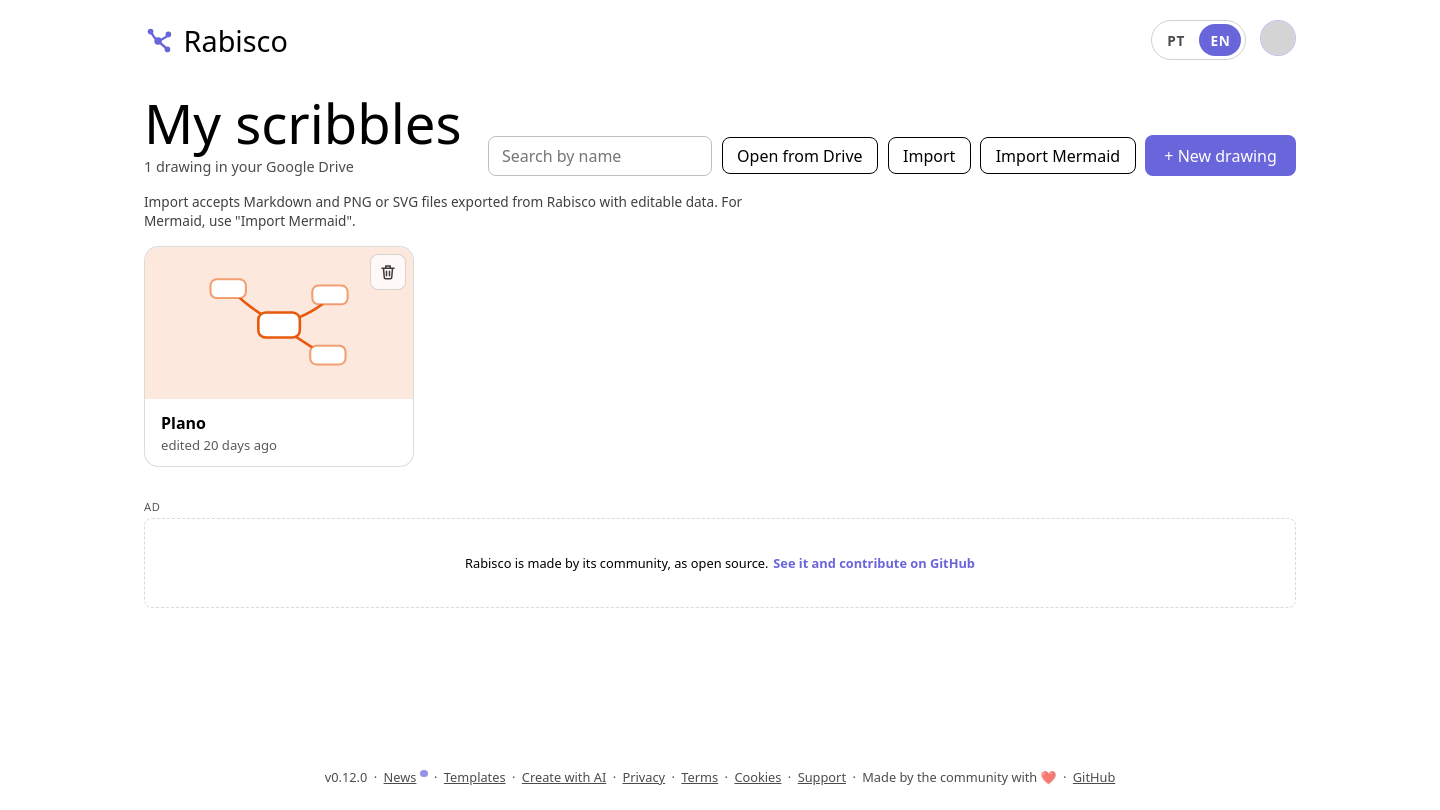
Test: deleting a drawing › says it in English too
Click the button named "Delete “Plano”" at (388, 272), box x1=370 y1=254 x2=406 y2=290
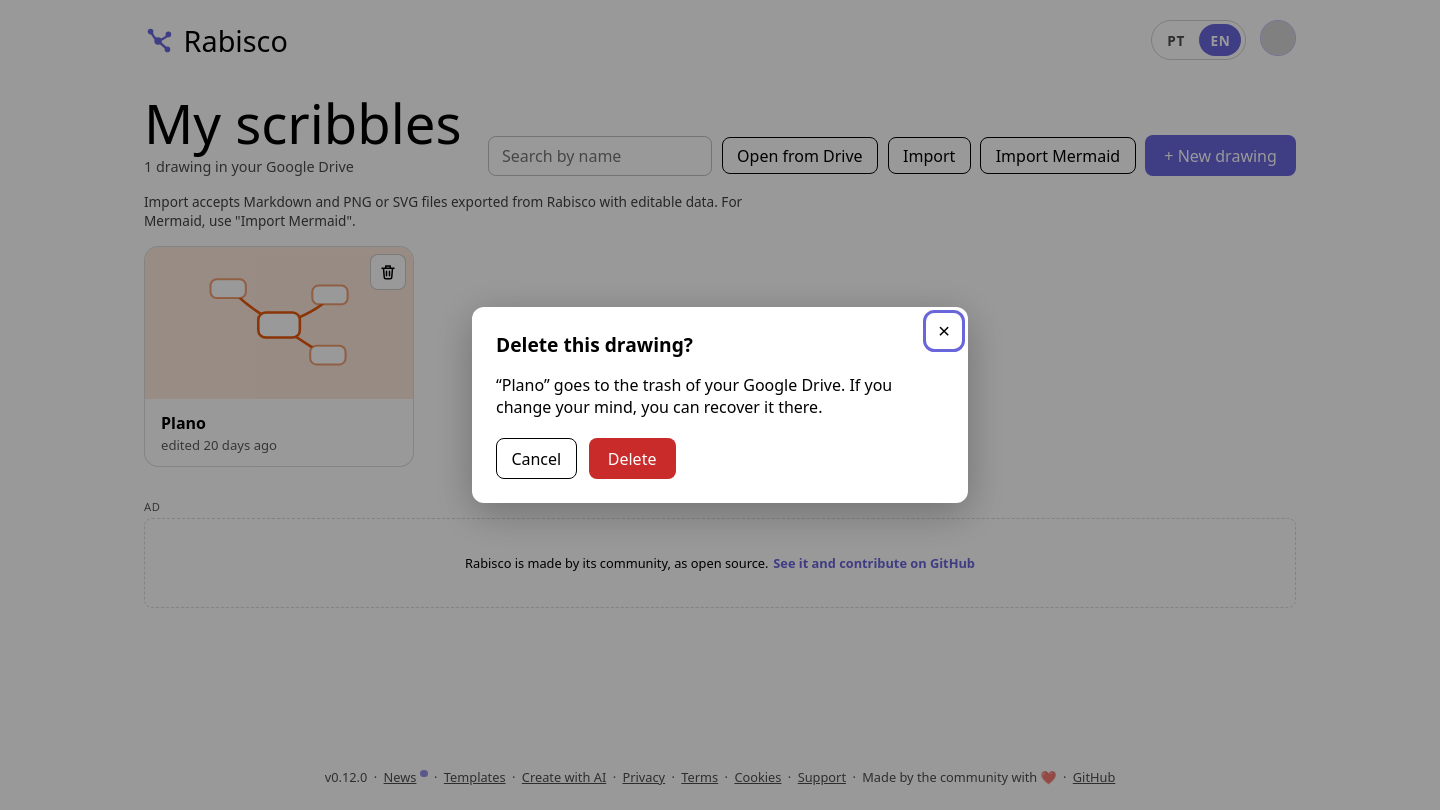
Result: the dialog "Delete this drawing?" shows "goes to the trash of your Google Drive" at x1=496 y1=374 x2=892 y2=418
